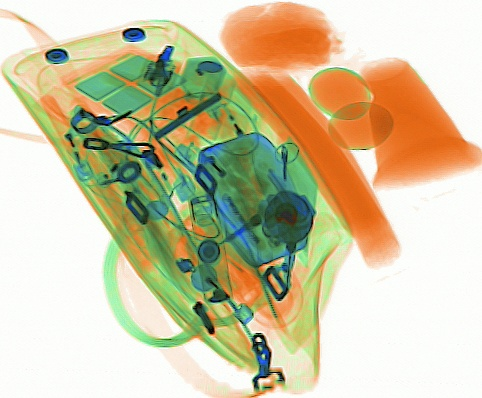lighter: (169, 127, 259, 228), (172, 237, 254, 326), (198, 94, 264, 176), (134, 121, 196, 204), (38, 93, 95, 181)
